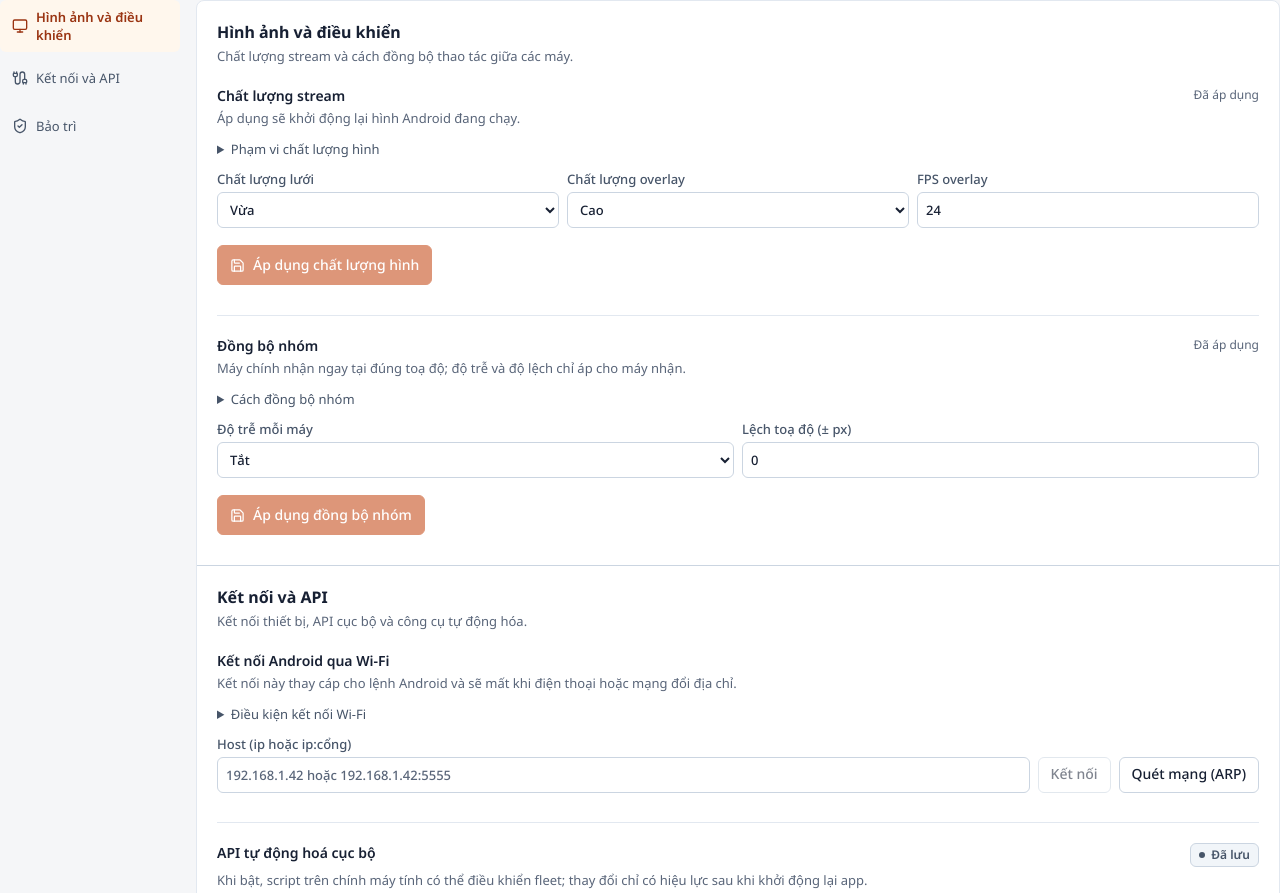
stream quality › shows the value the host stored, not the one that was typed
Replace the text in the number field labelled "FPS overlay" with "15" at x=1088, y=210, box [917,192,1259,228]
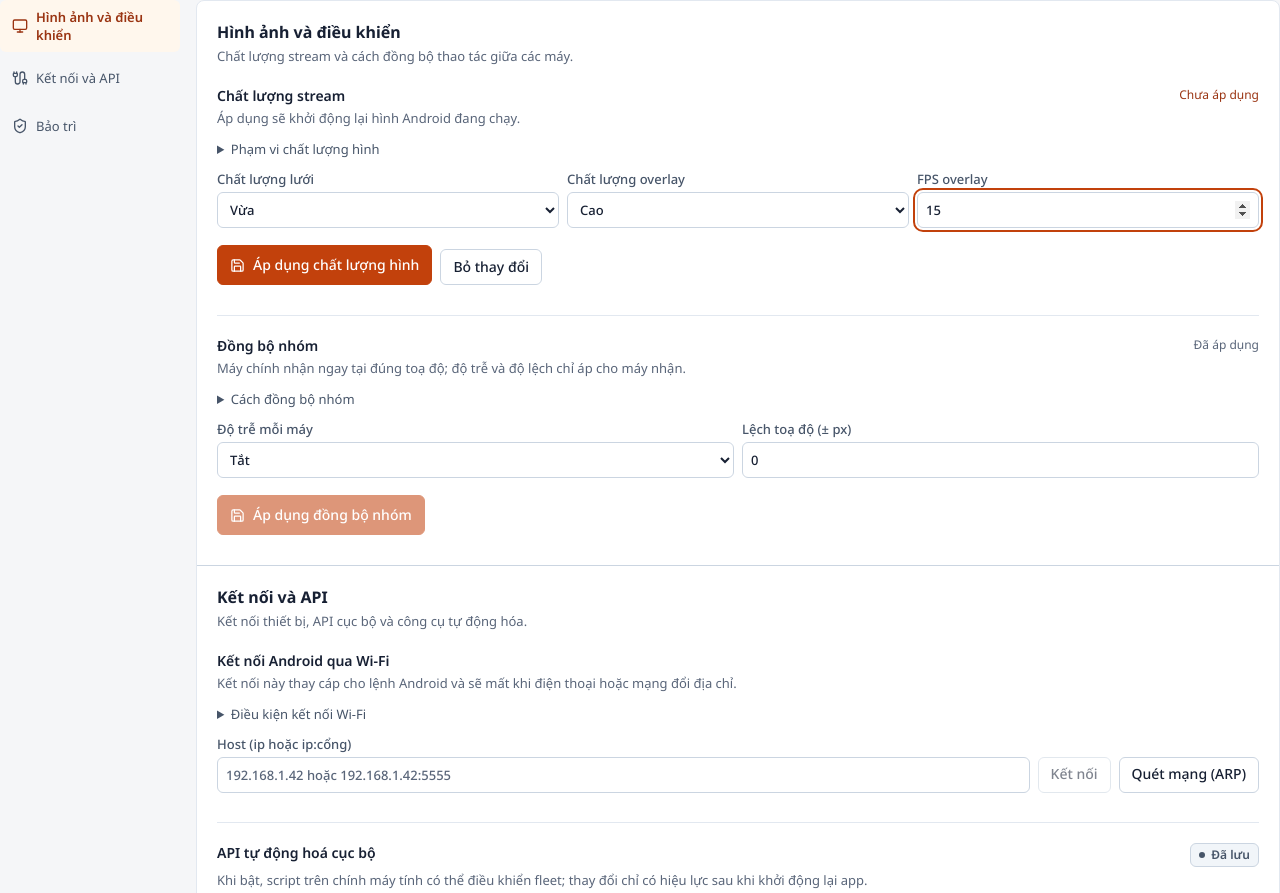
Click the button "Áp dụng chất lượng hình" at x=325, y=265, box [217,245,432,285]
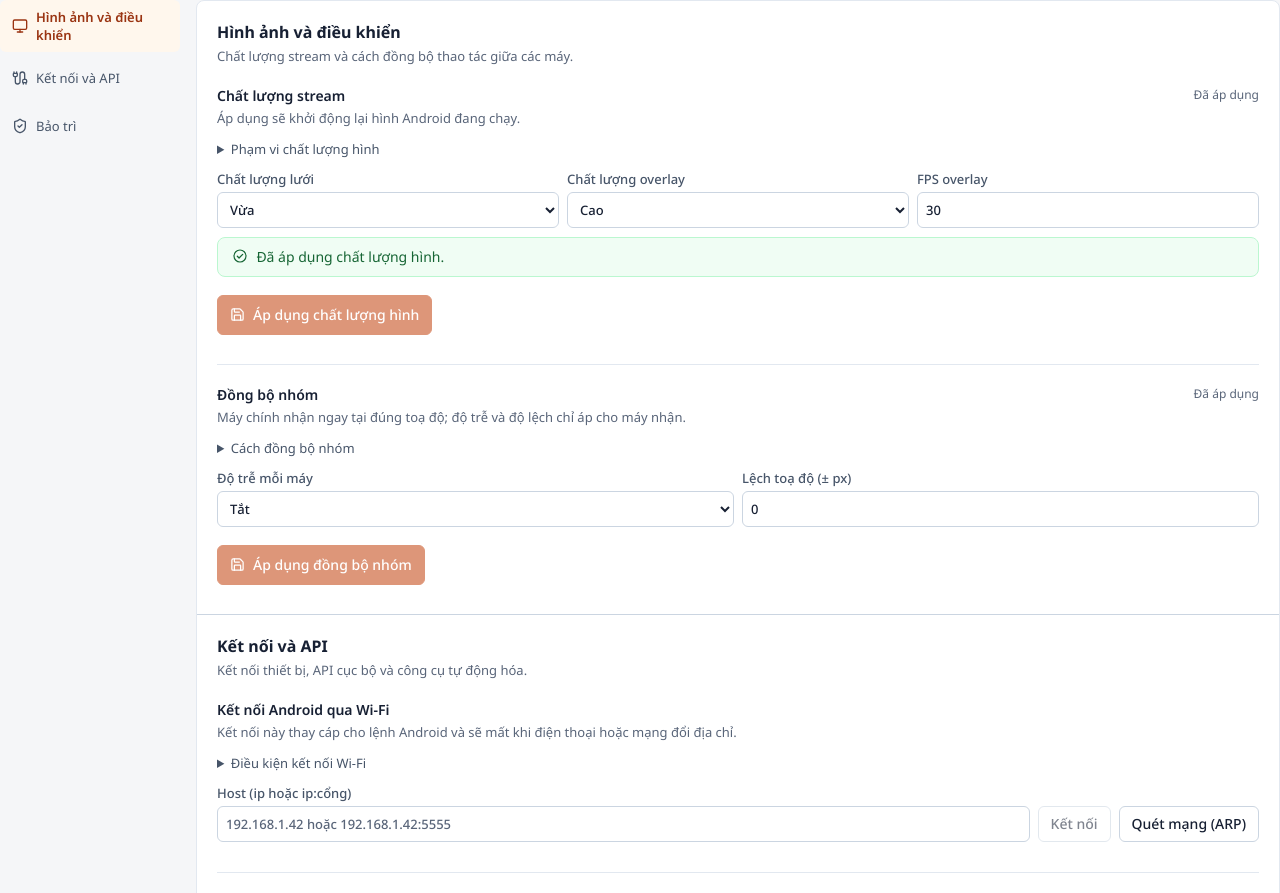
Now the number field labelled "FPS overlay" holds "30", box [917,192,1259,228]
